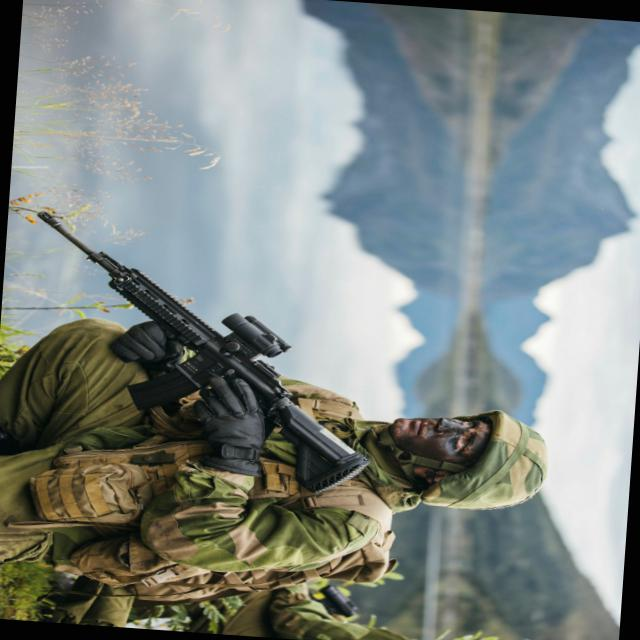long weapon: (30, 186, 383, 494)
